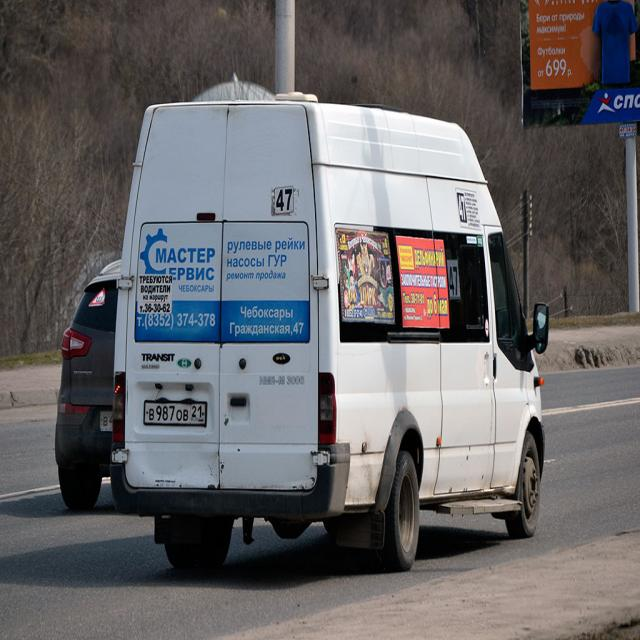number-of-bus: (271, 179, 301, 219)
